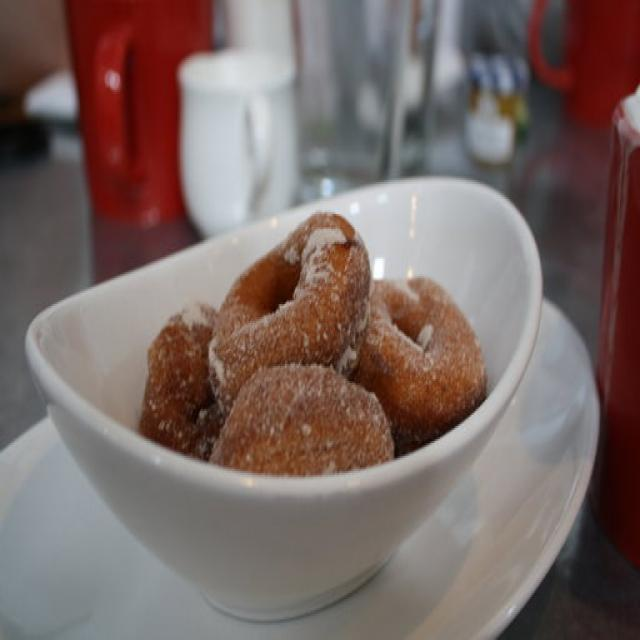Donuts: (130, 210, 502, 496)
